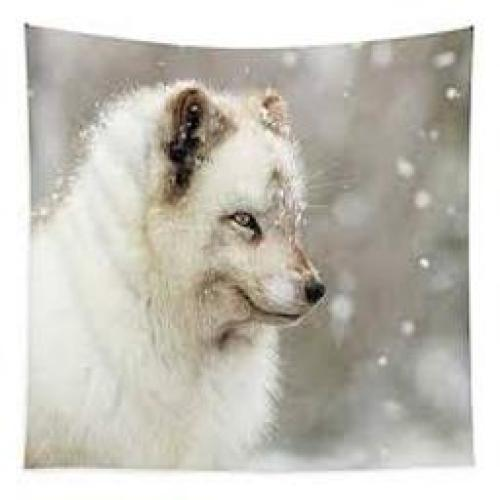arctic_fox-endangered: (37, 78, 329, 468)
